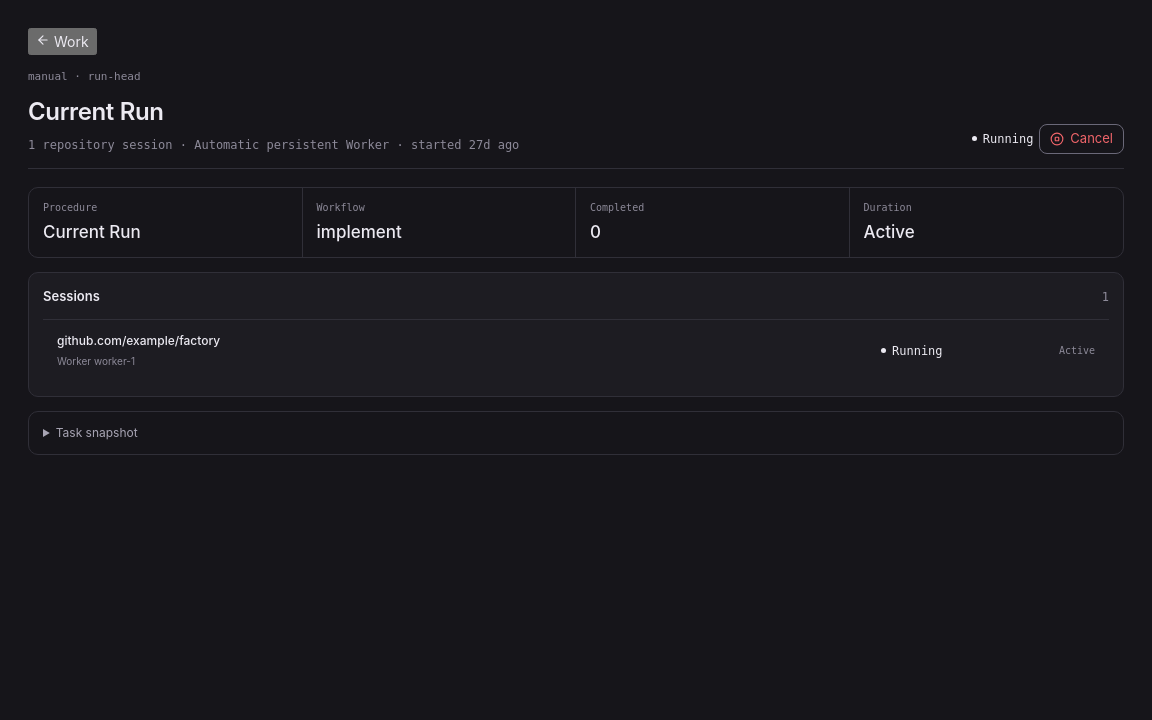
Runs › polls active attempt output after the last cached event
Click the text "github.com/example/factory". click: (139, 340)
box: [57, 333, 220, 348]
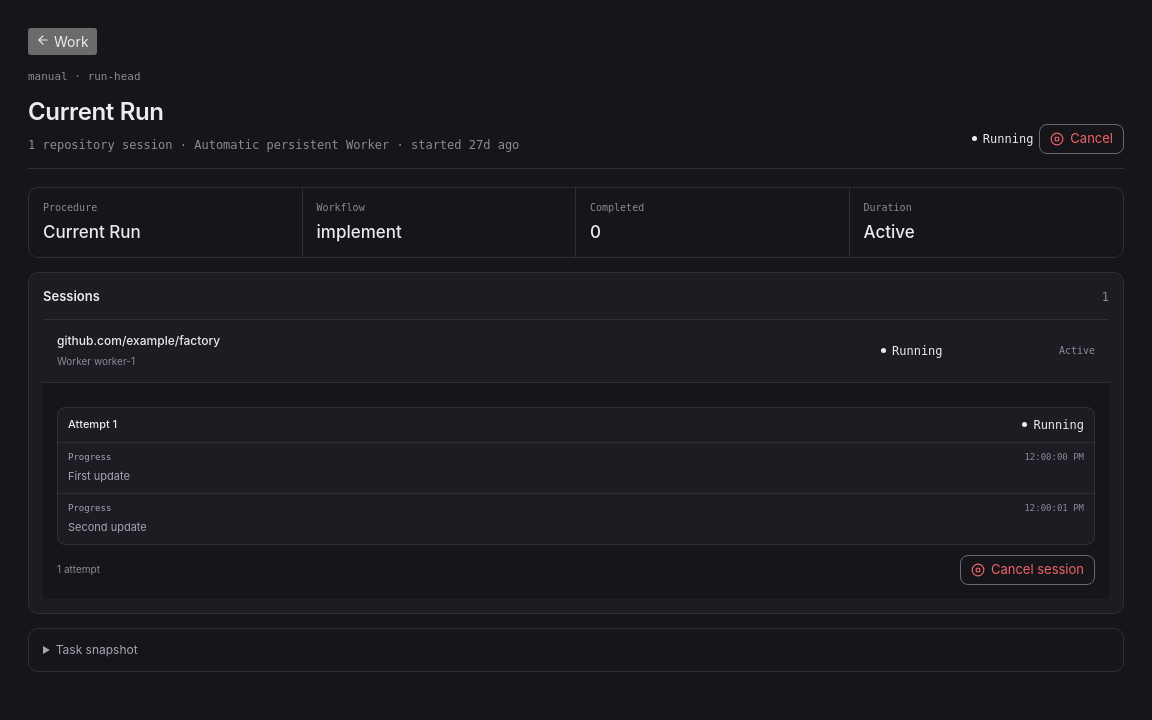
expect the text "First update" is shown: met, box [68, 469, 130, 483]
expect the text "Second update" is shown: met, box [68, 520, 147, 534]
